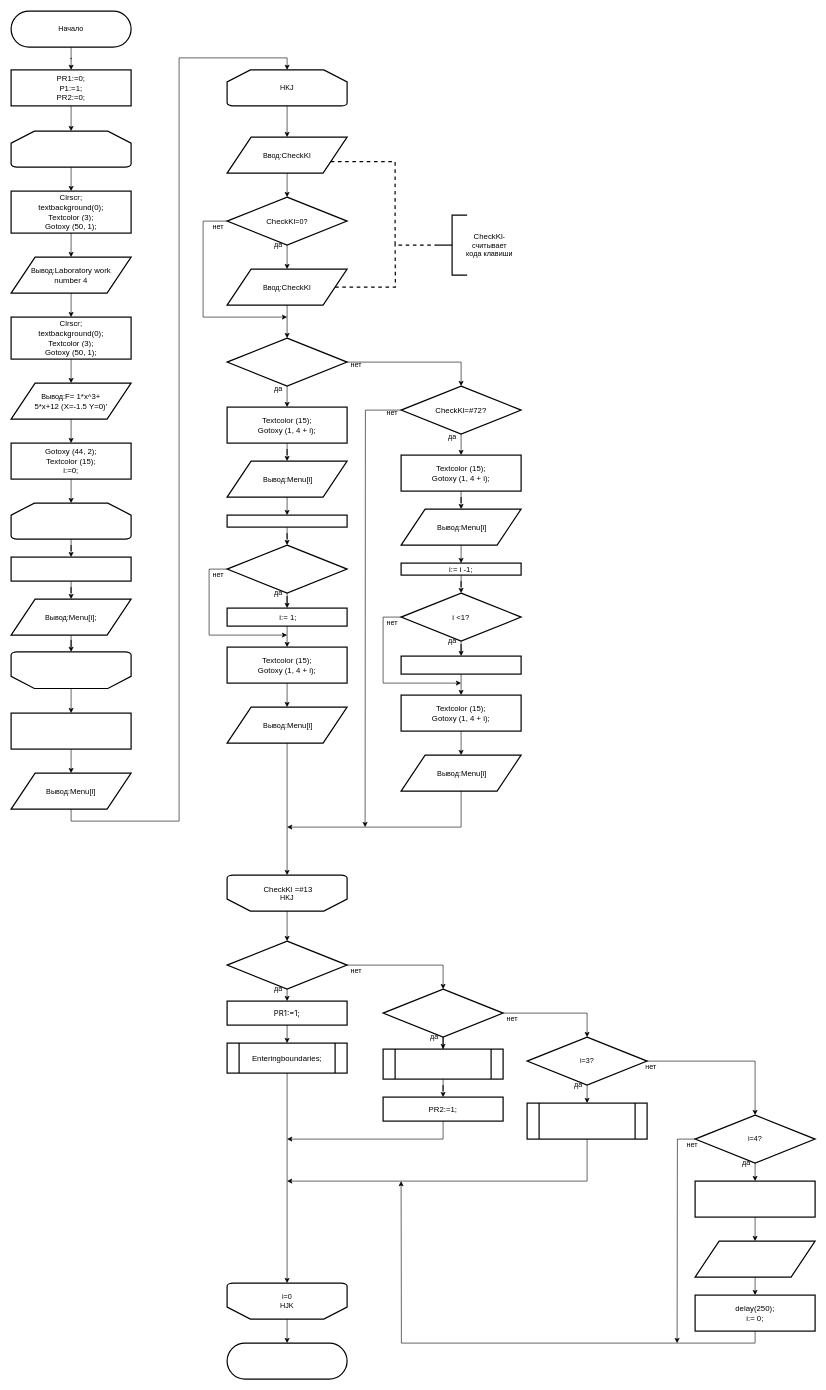
The diagram is 826 pixels wide and 1390 high, and some of its shapes have lost their labels. Each missing label, with the box of its shape:
AreaCalculation;: (526, 1102, 647, 1139)
CheckKl=#80?: (226, 337, 347, 386)
clrscr; Textcolor (15);: (694, 1180, 815, 1217)
HJJ: (10, 651, 131, 689)
HJJ i>=MN: (10, 502, 131, 539)
HJK: (10, 130, 131, 167)
i >MN?: (226, 544, 347, 593)
i:= 1; TextColor (4); Gotoxy (1, 4 + i);: (10, 712, 131, 749)
i:= 4;: (400, 655, 521, 674)
i:= i + 1;: (226, 514, 347, 527)
i:=i+1 GotoXY (1, 4 + i);: (10, 556, 131, 581)
I=1?: (226, 940, 347, 989)
i=2?: (382, 988, 503, 1037)
Inputstep;: (382, 1048, 503, 1079)
Вывод: End of the program: (694, 1240, 815, 1277)
конец: (226, 1342, 347, 1379)
